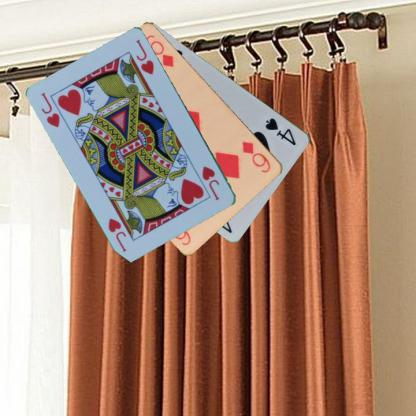4s: (263, 115, 297, 148)
6d: (240, 138, 272, 175)
Jh: (39, 90, 62, 129), (200, 164, 222, 202)
